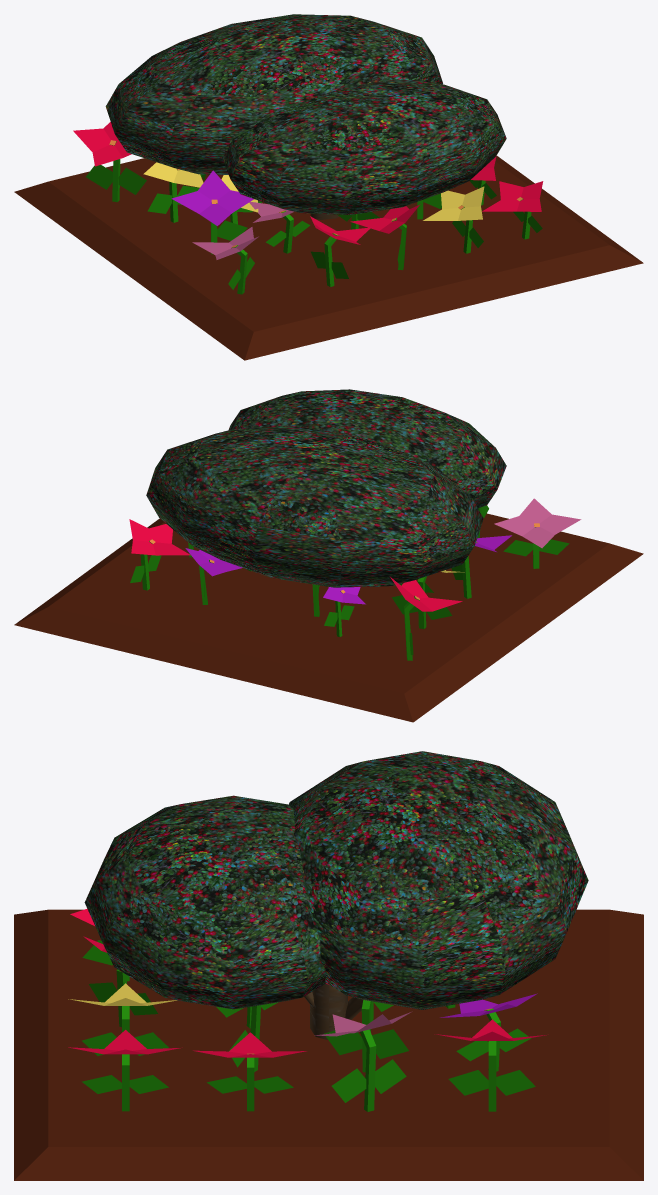
The model's file is police_features.glb.
3 renders of one model, top to bottom at view 1: azimuth 30°, elevation 25°; view 2: azimuth 150°, elevation 25°; view 3: azimuth 270°, elevation 25°, orthographic. The views are drawn at different scales.
Parts seen in each view (by area): view 1: flower_garden, berry_bush; view 2: flower_garden, berry_bush; view 3: flower_garden, berry_bush.
Boxes of the visible parts, bbox=[...] form: flower_garden: bbox=[14, 122, 643, 360]; berry_bush: bbox=[105, 14, 506, 219]; flower_garden: bbox=[14, 498, 643, 722]; berry_bush: bbox=[146, 389, 506, 587]; flower_garden: bbox=[14, 909, 643, 1180]; berry_bush: bbox=[84, 751, 588, 1040].
Size of what is drawn, in the model's own units: 2 by 0.9086 by 2.
Materials: 9 (2 with a texture image).
